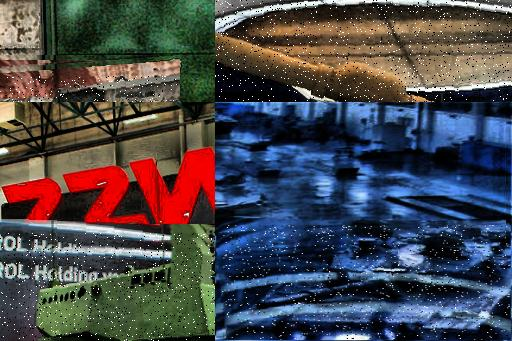tanks: (223, 226, 511, 341), (14, 237, 216, 341), (216, 30, 429, 103), (216, 177, 306, 246), (1, 78, 181, 103), (216, 112, 237, 135), (503, 328, 508, 333)
